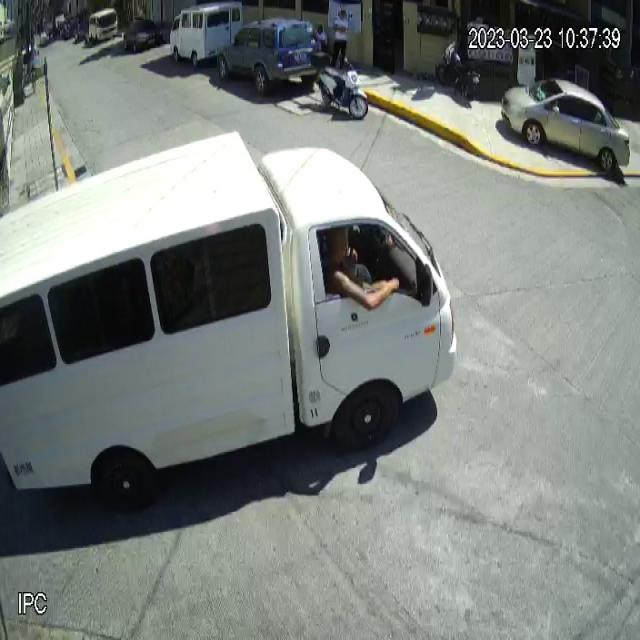Car: (500, 76, 631, 175), (216, 17, 322, 98)
Motorcycle: (311, 49, 371, 125)
Van: (0, 128, 460, 493), (169, 1, 245, 67)
